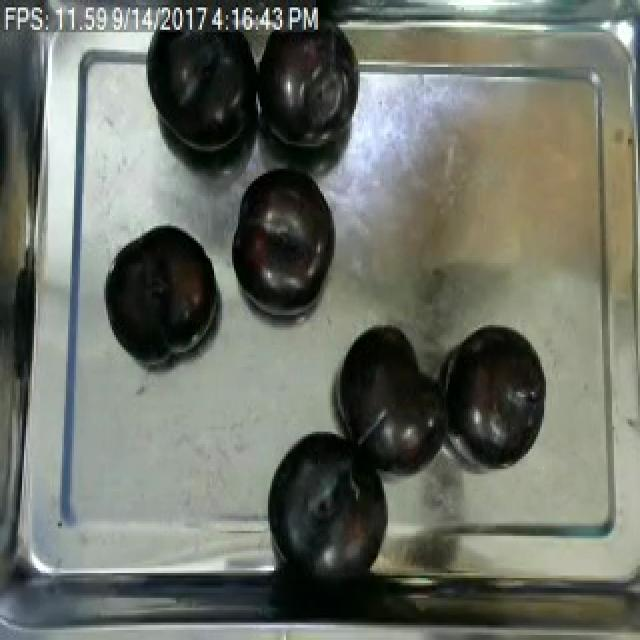Fruit: (260, 422, 396, 576), (138, 7, 264, 164), (328, 320, 454, 476), (224, 159, 342, 320), (98, 218, 222, 370), (440, 322, 552, 464)
